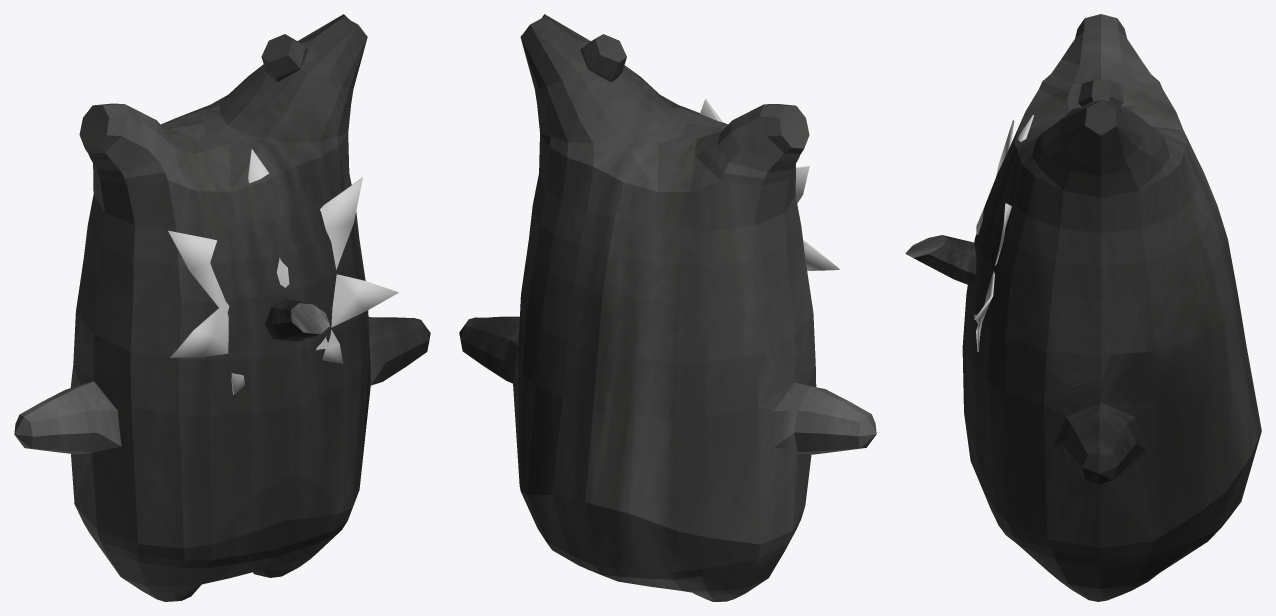
File: frame_0013.obj
3 renders of one model, left to right at view 1: azimuth 30°, elevation 25°; view 2: azimuth 150°, elevation 25°; view 3: azimuth 270°, elevation 25°, orthographic.
Parts seen in each view (by area): view 1: korok, leaf, nose.003_柱体.011; view 2: korok, leaf; view 3: korok, nose.003_柱体.011, leaf.
Boxes of the visible parts, bbox=[...] form: korok: bbox=[14, 14, 430, 601]; leaf: bbox=[168, 149, 398, 394]; nose.003_柱体.011: bbox=[265, 299, 329, 341]; korok: bbox=[459, 14, 876, 601]; leaf: bbox=[700, 99, 839, 270]; korok: bbox=[962, 14, 1261, 601]; nose.003_柱体.011: bbox=[905, 235, 976, 286]; leaf: bbox=[974, 115, 1034, 351].
Size of the model in its own units: 1.92 by 2.38 by 1.44.
